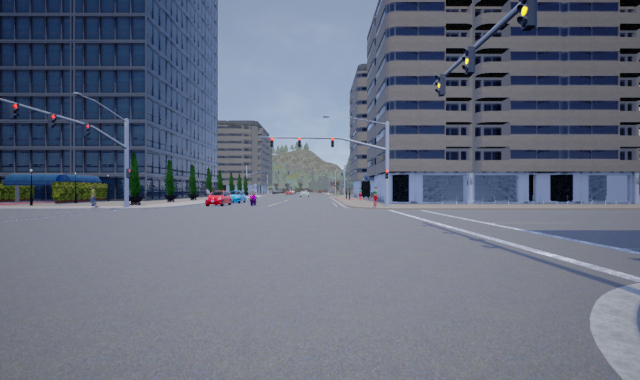motobike: (248, 190, 257, 206)
pedestrian: (87, 185, 100, 208), (369, 185, 379, 206)
traffic_light: (517, 1, 538, 31), (461, 46, 475, 76), (434, 73, 446, 96), (11, 101, 21, 122), (49, 111, 58, 129), (83, 121, 91, 139), (126, 167, 132, 179), (330, 137, 336, 149), (270, 136, 275, 148), (297, 136, 302, 148), (385, 169, 389, 180)
vehicle: (204, 190, 230, 207), (226, 189, 246, 204)
